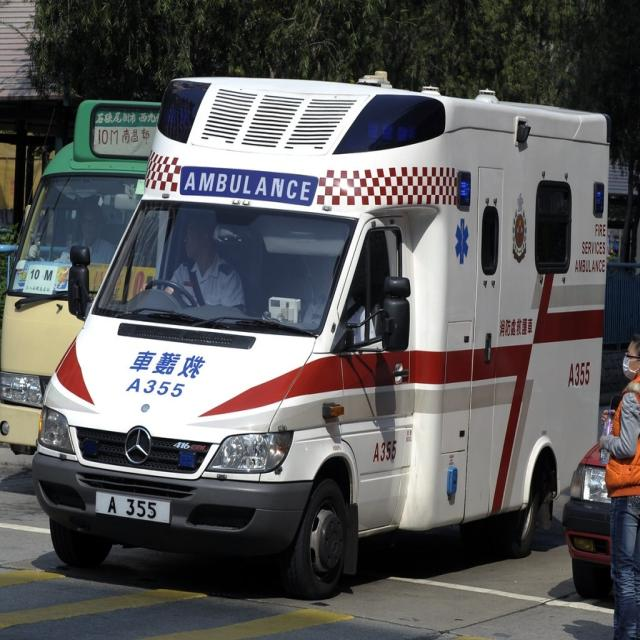ambulance: (30, 70, 611, 600)
